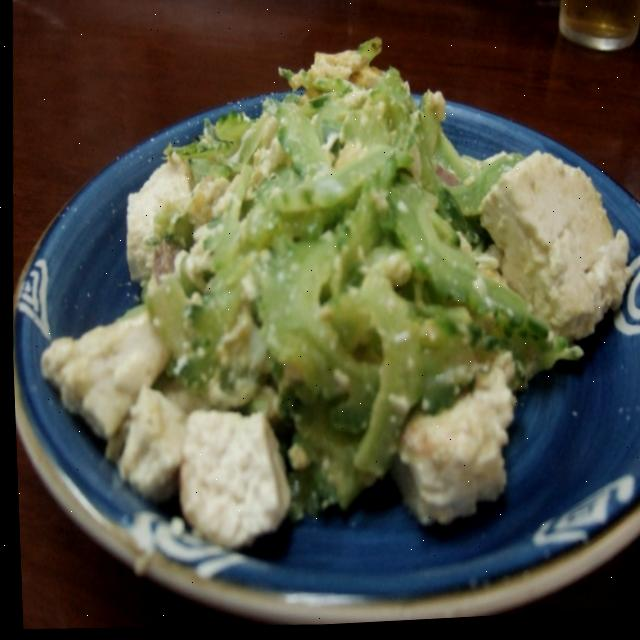熟制海鲜: (2, 48, 640, 640)
